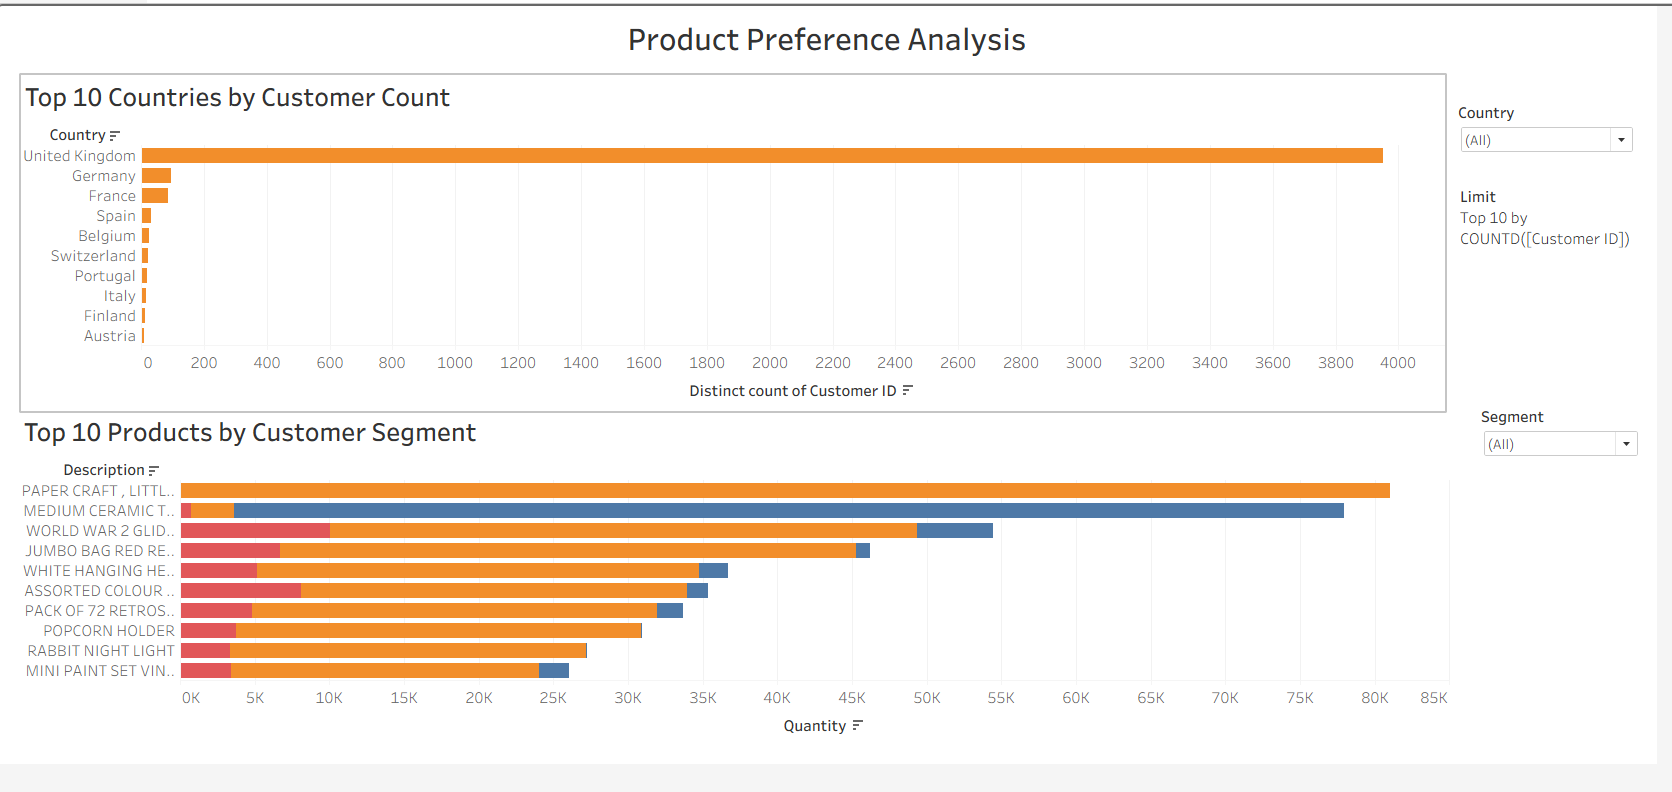

This screenshot's page, from the dashboard's own definition file:
{"tool":"tableau","page":{"name":"Product preference analysis","canvas":[1000,1000],"units":"permille","ordinal":1},"visuals":[{"type":"title","box":[4.8,10.5,990.4,68.4]},{"type":"worksheet","title":"Top 10 Countries","mark":"Automatic","rows":["Country"],"cols":["CustomerID"],"box":[14.5,93.4,857.8,442.1]},{"type":"filter","title":"Top 10 Countries","param":"[federated.1nxbxqc1m1g5k8155vguh0dackog].[none:Country:nk]","box":[880.1,128.9,107.2,198.7]},{"type":"filter","title":"Top 10 products","param":"[federated.0l3wy6l021wuvb177tyxk0xt5qne].[none:Segment:nk]","box":[894,529,96.4,77.6]},{"type":"worksheet","title":"Top 10 products","mark":"Automatic","rows":["Description"],"cols":["Quantity"],"box":[13.9,534.2,861.5,440.8]}]}

Visuals, with their boxes on the dashboard's canvas, which has no fixed pixel size, in thousandths of its width and height (x1, y1, x2, y2). These are canvas units, not pixel positions in the 1672x792 screenshot, which may show the page scaled, cropped or inside an application window:
title: <box>5,10,995,79</box>
"Top 10 Countries" worksheet: <box>14,93,872,536</box>
"Top 10 Countries" filter: <box>880,129,987,328</box>
"Top 10 products" filter: <box>894,529,990,607</box>
"Top 10 products" worksheet: <box>14,534,875,975</box>
